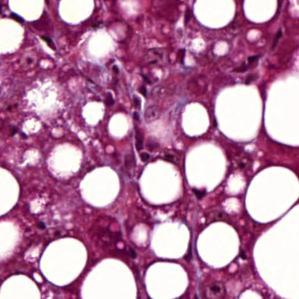steatosis: (245, 165, 299, 223), (37, 236, 89, 288), (198, 221, 241, 269)
